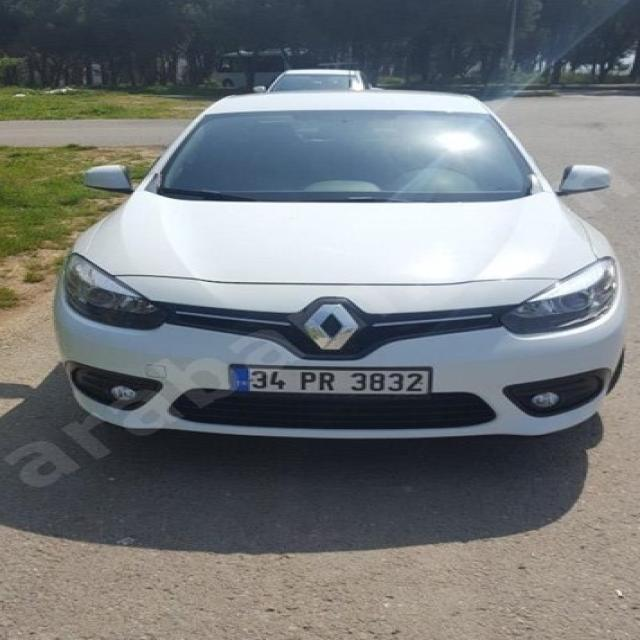license_plate: (228, 365, 430, 396)
